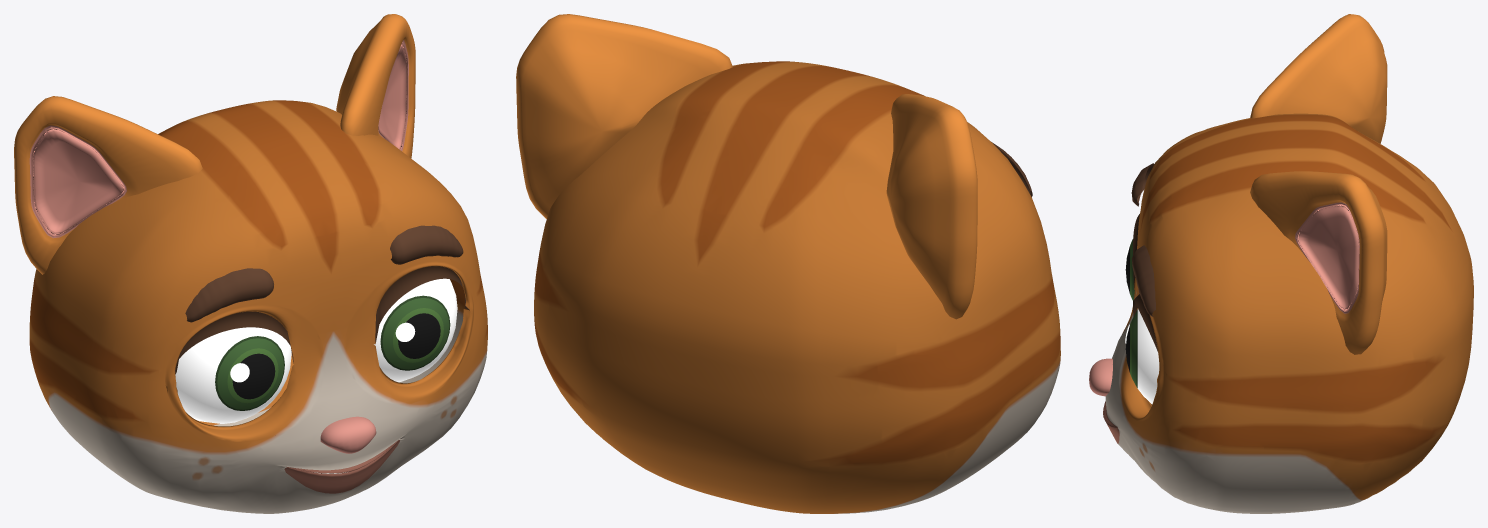
The model's file is avatar-gato.glb.
3 renders of one model, left to right at view 1: azimuth 30°, elevation 25°; view 2: azimuth 150°, elevation 25°; view 3: azimuth 270°, elevation 25°, orthographic. The views are drawn at different scales.
Visible parts, largest first — view 1: Head, Hair, Lids, Eye_R, Eye_L, Brows, Nose; view 2: Head, Hair; view 3: Head, Hair, Lids, Eye_L, Brows, Nose.
Part boxes in pixels (box(x1,y1,x2,y2)): Head: box(29, 100, 487, 513); Hair: box(14, 14, 415, 274); Lids: box(165, 261, 474, 441); Eye_R: box(175, 327, 291, 423); Eye_L: box(374, 278, 457, 382); Brows: box(185, 225, 463, 322); Nose: box(320, 416, 376, 453); Head: box(534, 61, 1060, 513); Hair: box(516, 14, 977, 319); Head: box(1103, 113, 1473, 513); Hair: box(1250, 14, 1387, 354); Lids: box(1118, 213, 1164, 421); Eye_L: box(1125, 309, 1159, 404); Brows: box(1131, 163, 1155, 316); Nose: box(1089, 358, 1112, 396).
Size of the model in its own units: 1.93 by 1.83 by 1.64.
